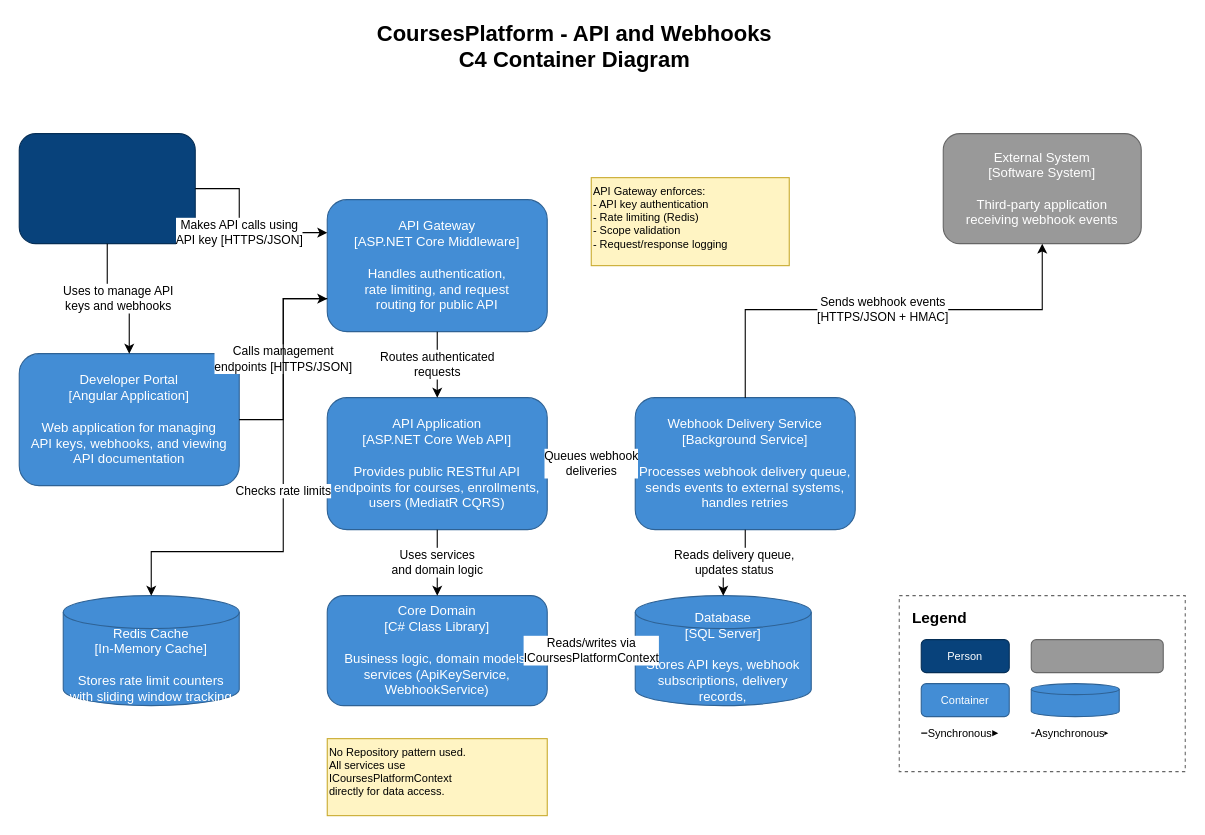
Some shapes in this 1205 by 835 pixel diagram are drawn without their labels. Here are the shapes that lost their labels. From the top down, the centre of each, then its label:
At point 106,188: "Developer [Person] External developer integrating with CoursesPlatform API".
At point 1096,656: "External System".
At point 1074,700: "Database".
